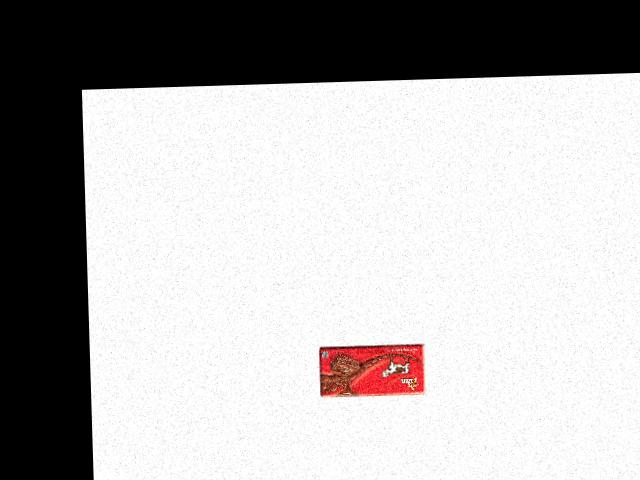chocolate: (316, 338, 429, 399)
